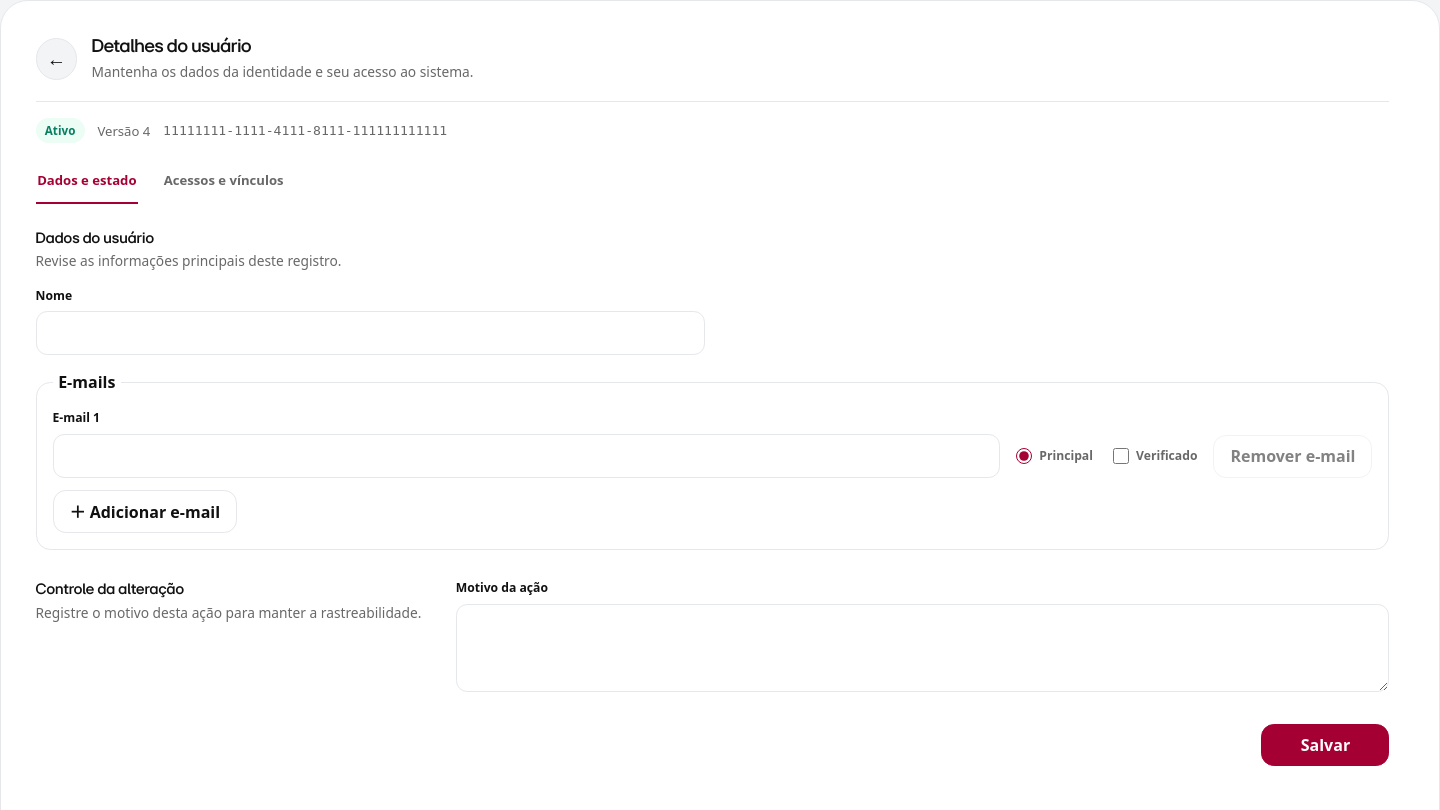
Scenario: AdminUserEditorComponent › reveals access relationships only when the administrator selects that section
This screenshot has width=1440, height=810.
Expected: the navigation bar is shown, [36,159,285,204]
Expected: the tab "Dados e estado" is shown, [36,159,138,204]
Click the tab "Acessos e vínculos" at (224, 181), box [162,159,285,204]
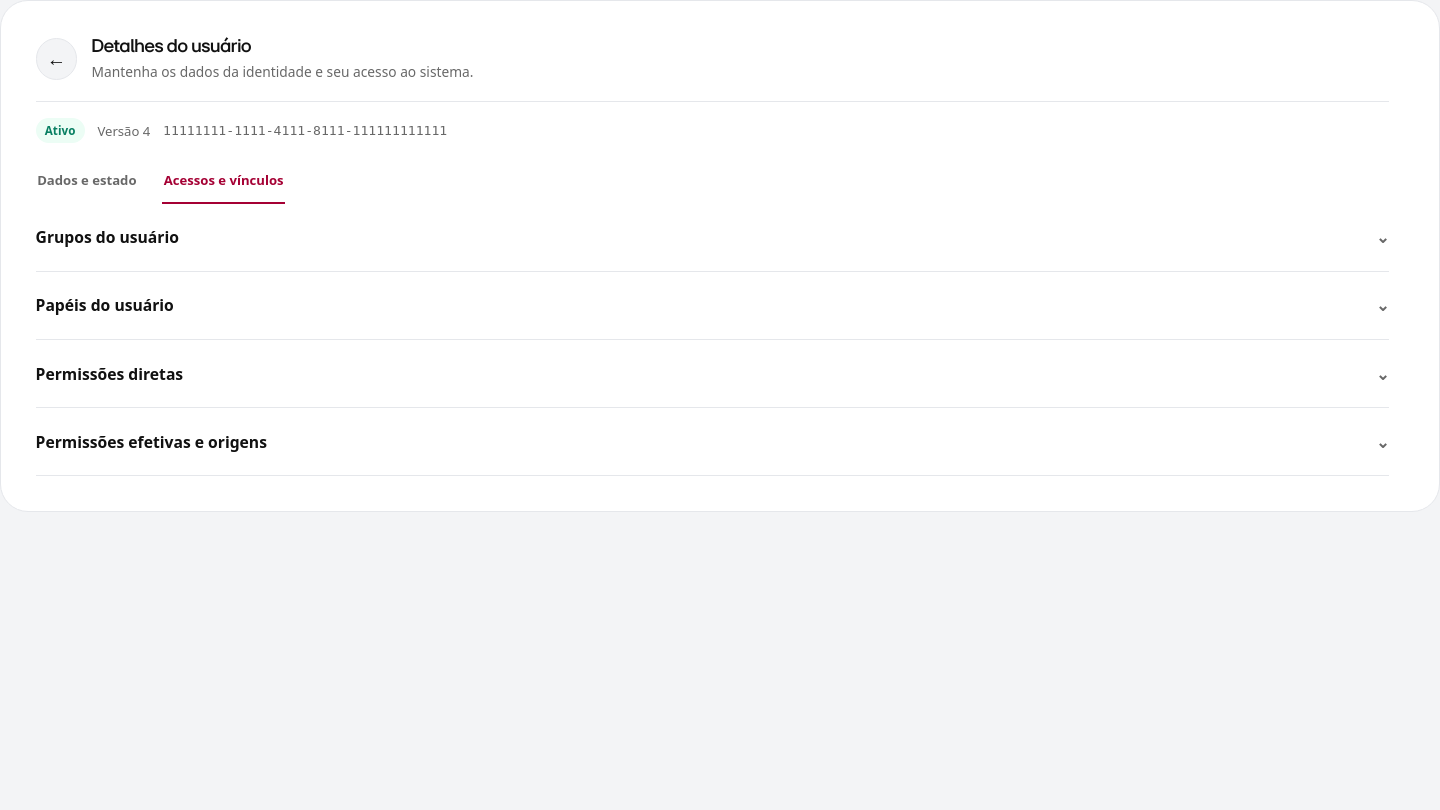
Expected: the element with class "admin-record-form" is gone
Expected: the element with class "admin-association-stack" is shown, [36,204,1389,408]
